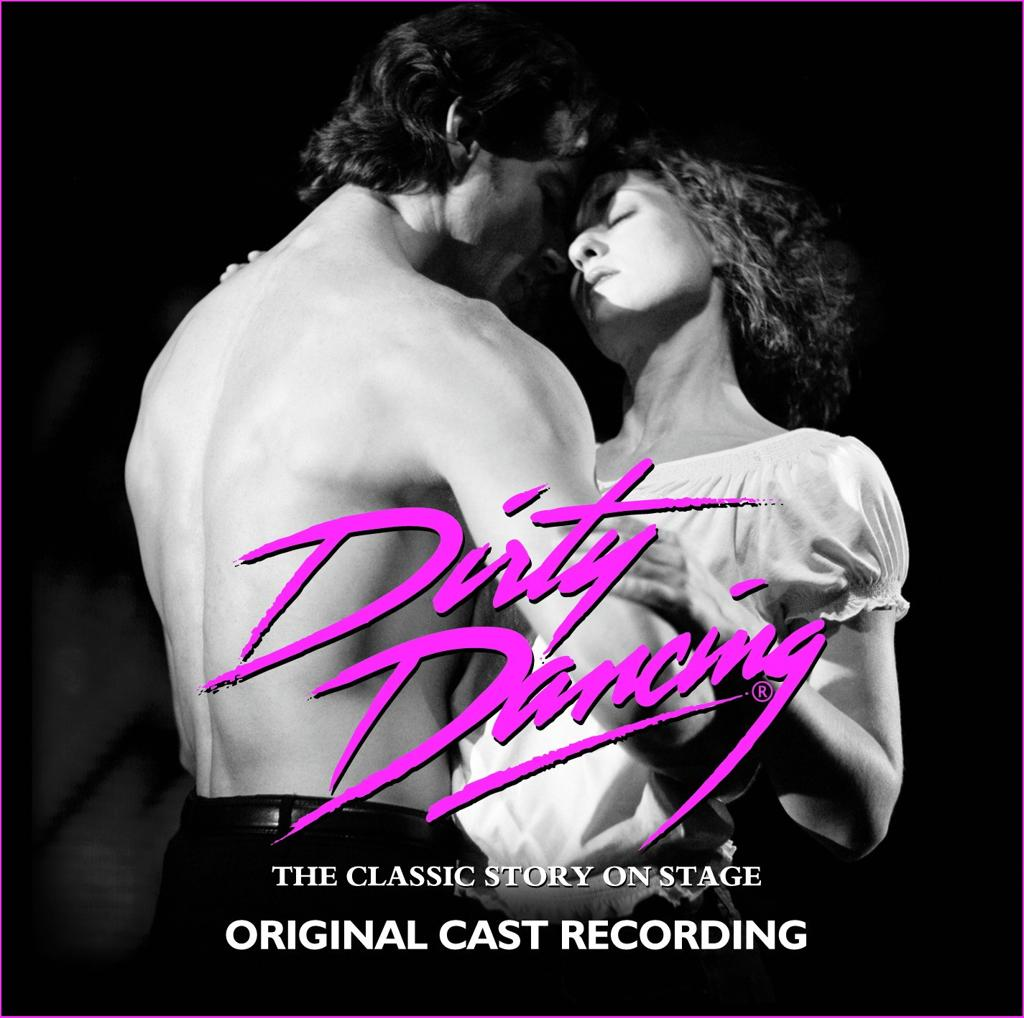face: (446, 64, 586, 298), (556, 138, 706, 316)
